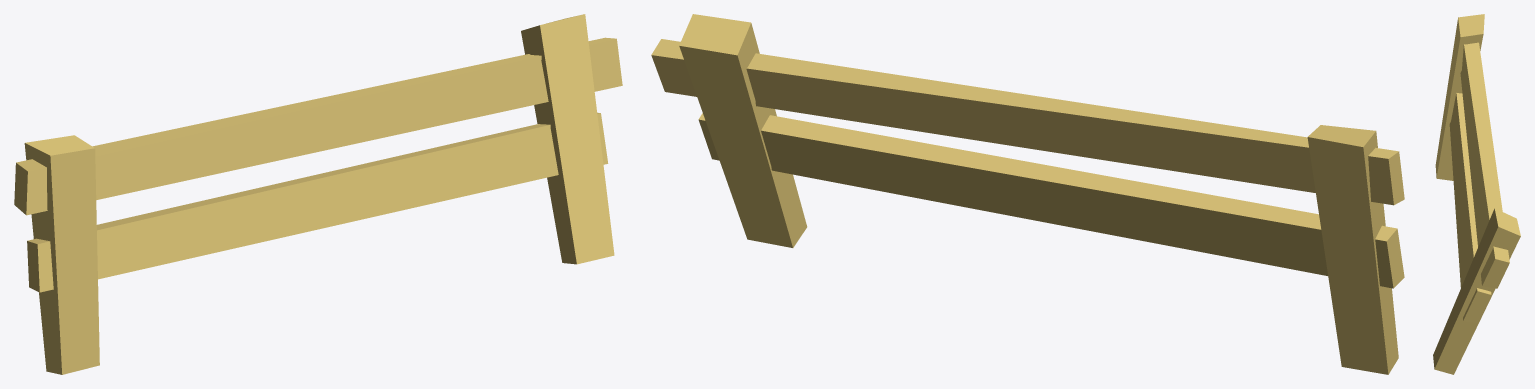
The model's file is Fence1.fbx.
3 views of the same model, side by side, from view 1: azimuth 30°, elevation 25°; view 2: azimuth 150°, elevation 25°; view 3: azimuth 270°, elevation 25° (orthographic). The views are drawn at different scales.
Parts seen in each view (by area): view 1: Fence.1; view 2: Fence.1; view 3: Fence.1.
Part boxes in pixels (x1=…): Fence.1: x1=14, y1=14, x2=622, y2=374; Fence.1: x1=651, y1=14, x2=1404, y2=374; Fence.1: x1=1433, y1=14, x2=1520, y2=374.
Size of the model in its own units: 1588 by 566 by 271.
